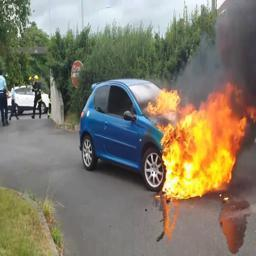fire: (147, 83, 256, 199), (146, 90, 180, 115)
